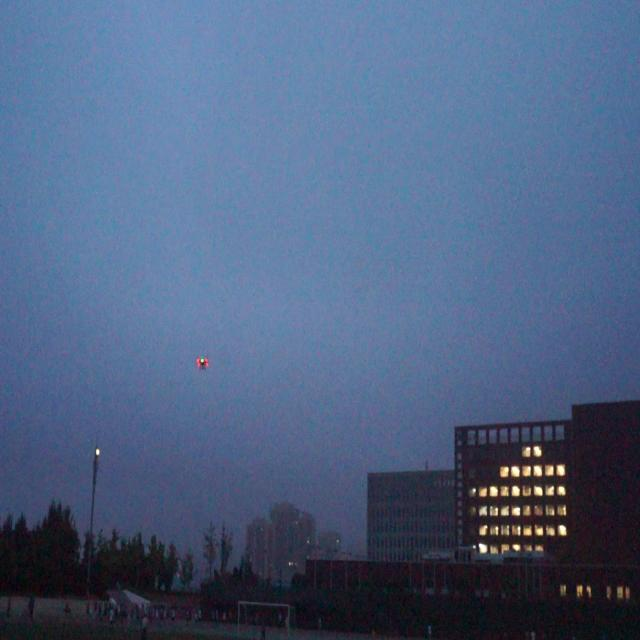drone: (195, 353, 212, 372)
